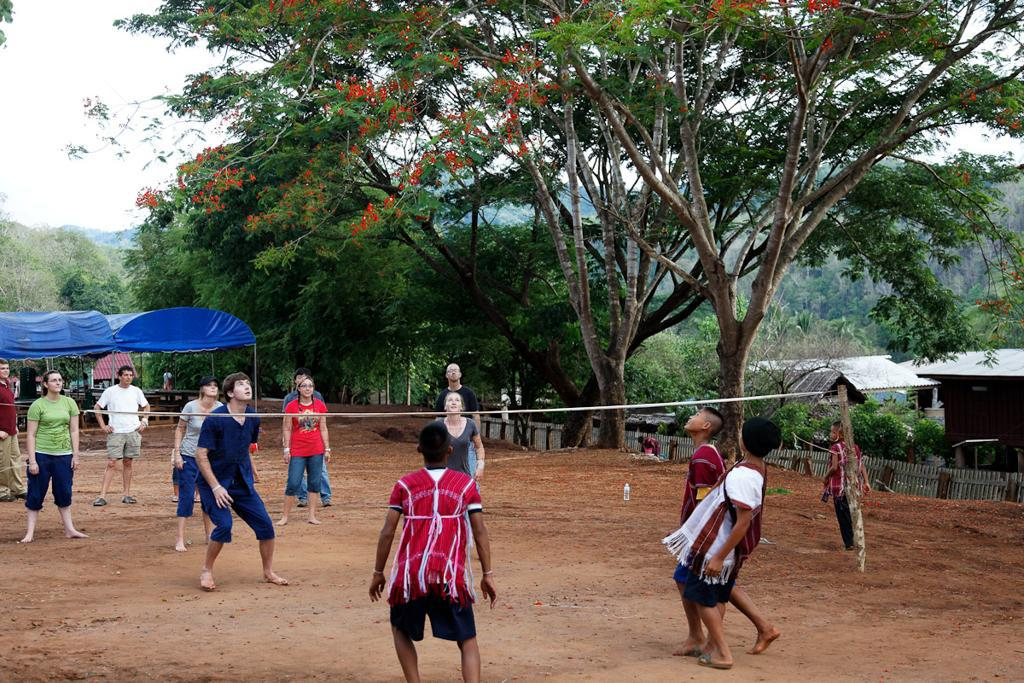face: (685, 410, 707, 428), (235, 381, 253, 401), (48, 375, 63, 392), (447, 397, 461, 414), (301, 382, 315, 397), (204, 381, 218, 396), (448, 367, 460, 381), (121, 372, 133, 385), (1, 363, 10, 378), (297, 375, 308, 386), (830, 427, 840, 438)
